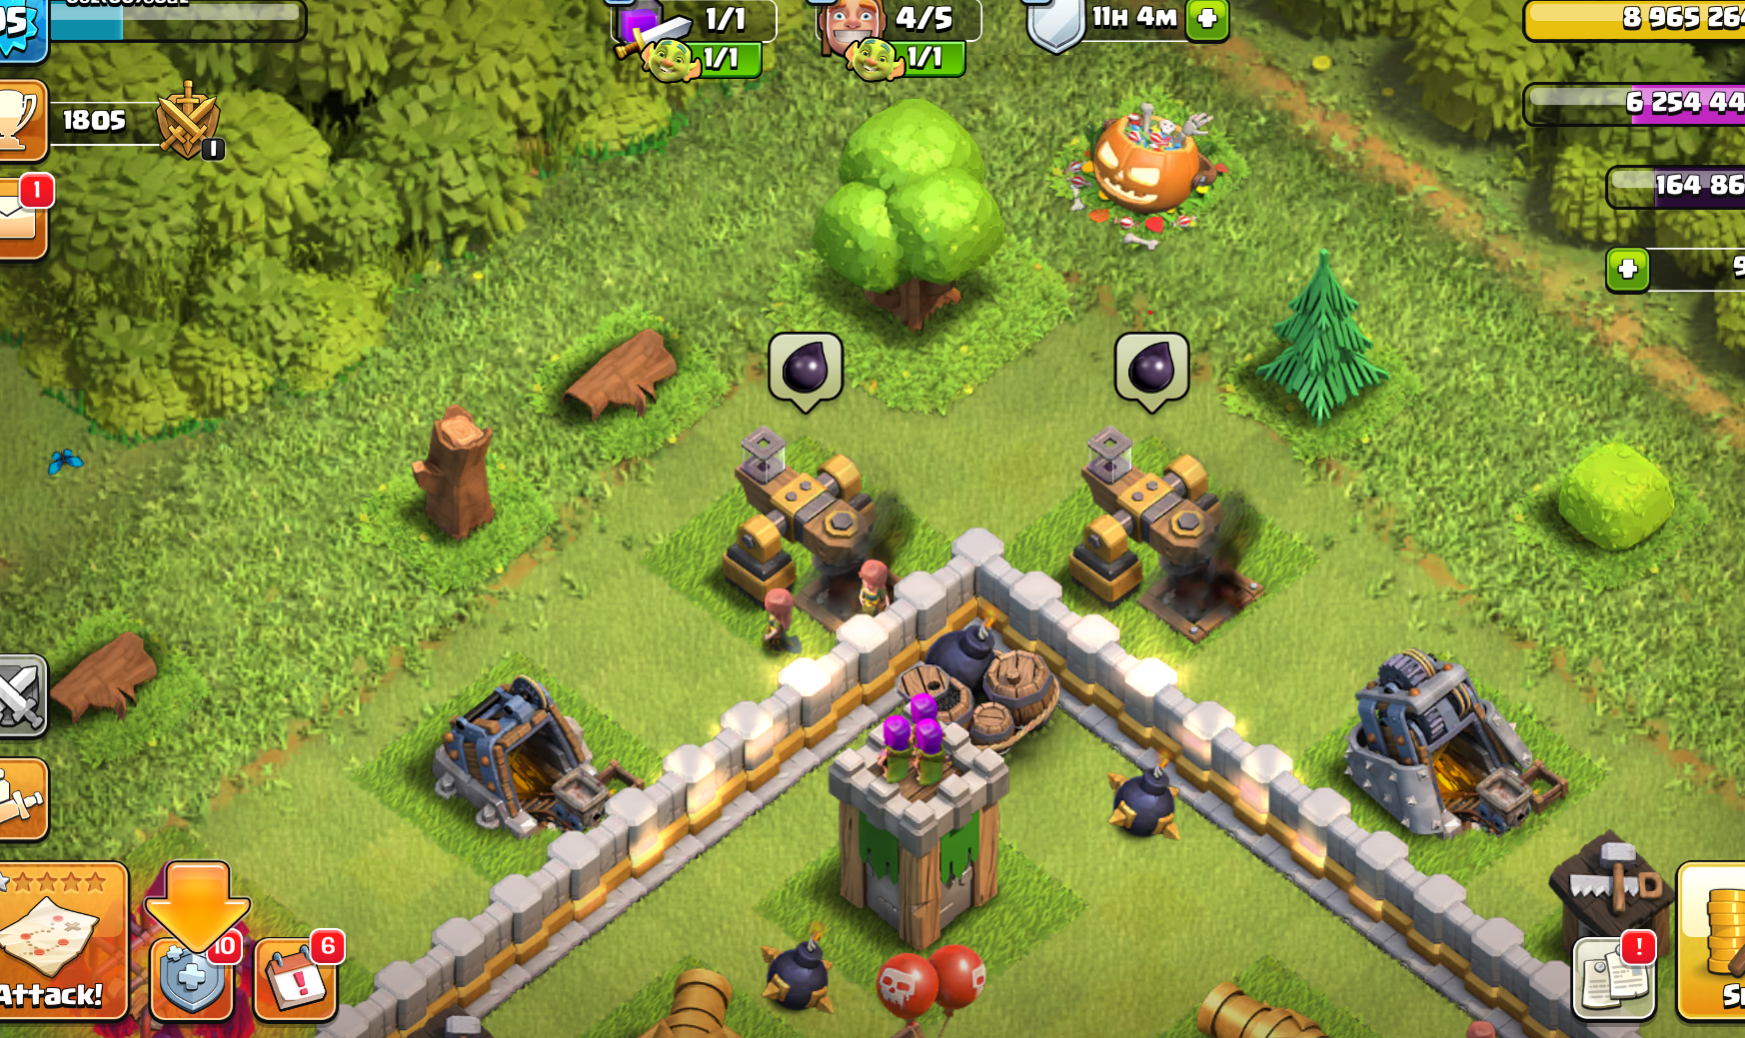dark_elixir_colector: (670, 383, 895, 670), (1029, 397, 1248, 680)
gold_mine: (1335, 617, 1540, 858), (403, 648, 609, 864)
